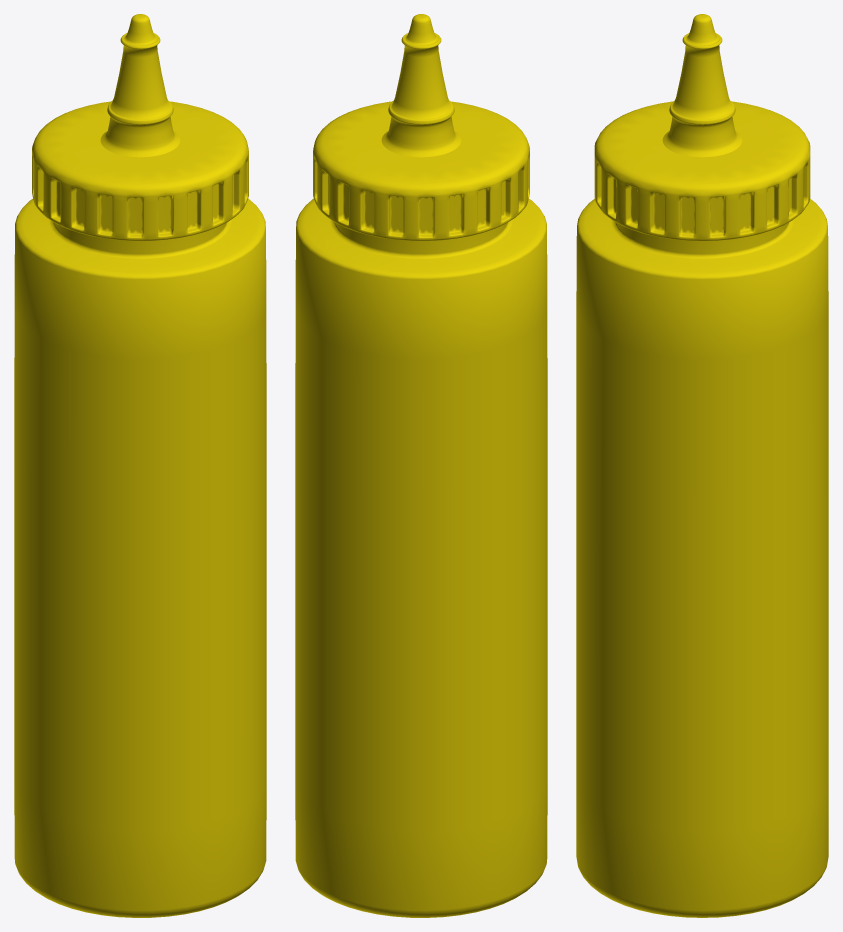
File: SM_Musterd.glb
The picture shows the model from 3 angles, left to right: view 1: azimuth 30°, elevation 25°; view 2: azimuth 150°, elevation 25°; view 3: azimuth 270°, elevation 25°; orthographic projection.
Visible parts, largest first — view 1: SM_Musterd; view 2: SM_Musterd; view 3: SM_Musterd.
Part boxes in pixels (x1,y1,x2,y2): SM_Musterd: (14, 14, 266, 917); SM_Musterd: (295, 14, 547, 917); SM_Musterd: (576, 14, 828, 917).
Bounding box in the file's own units: 0.0485 × 0.181 × 0.0485.
